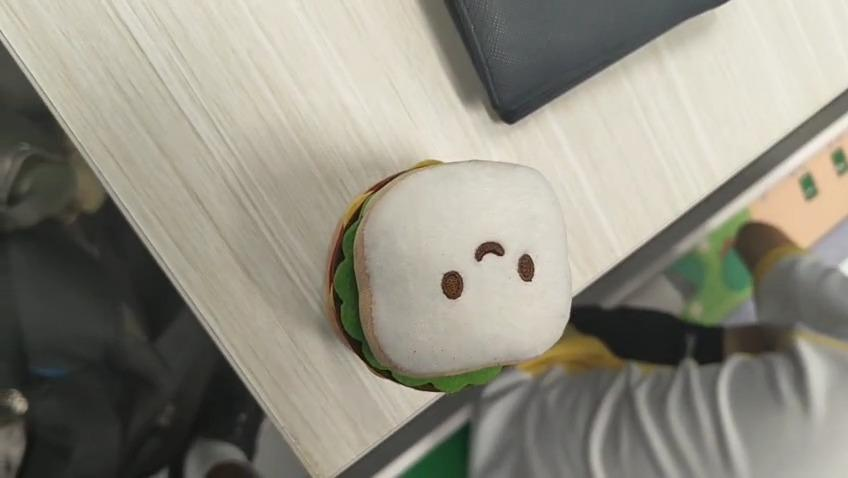objects: (327, 156, 576, 398)
